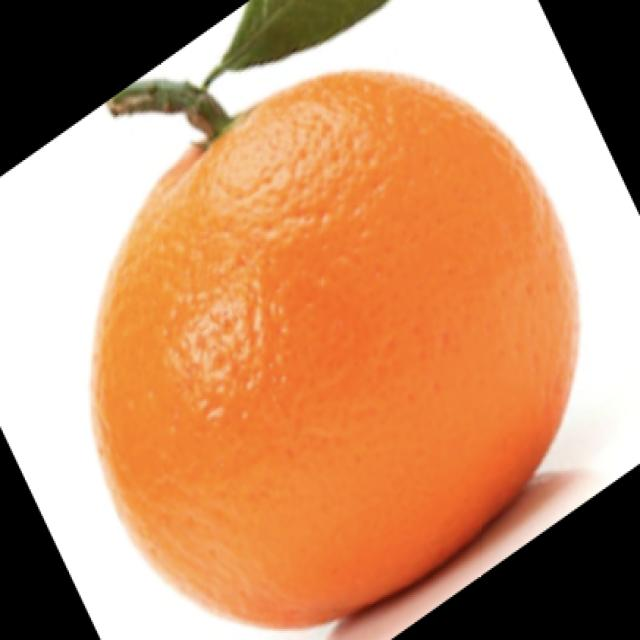orange: (79, 39, 587, 640)
